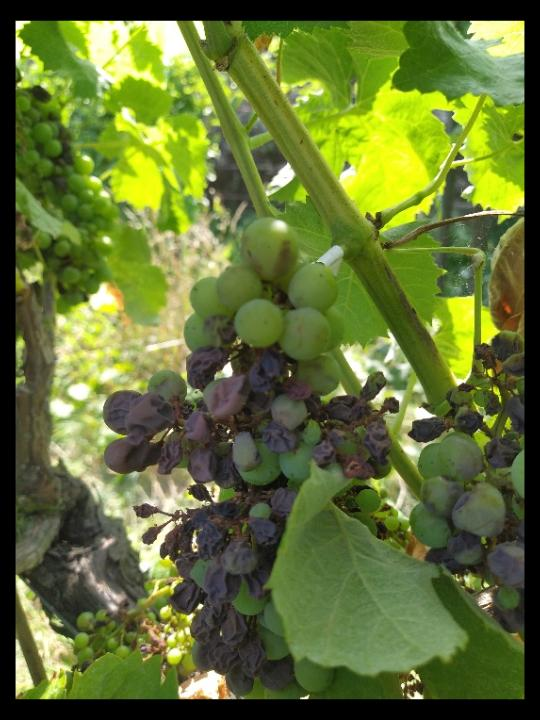grape: (98, 212, 402, 696), (19, 85, 115, 307)
